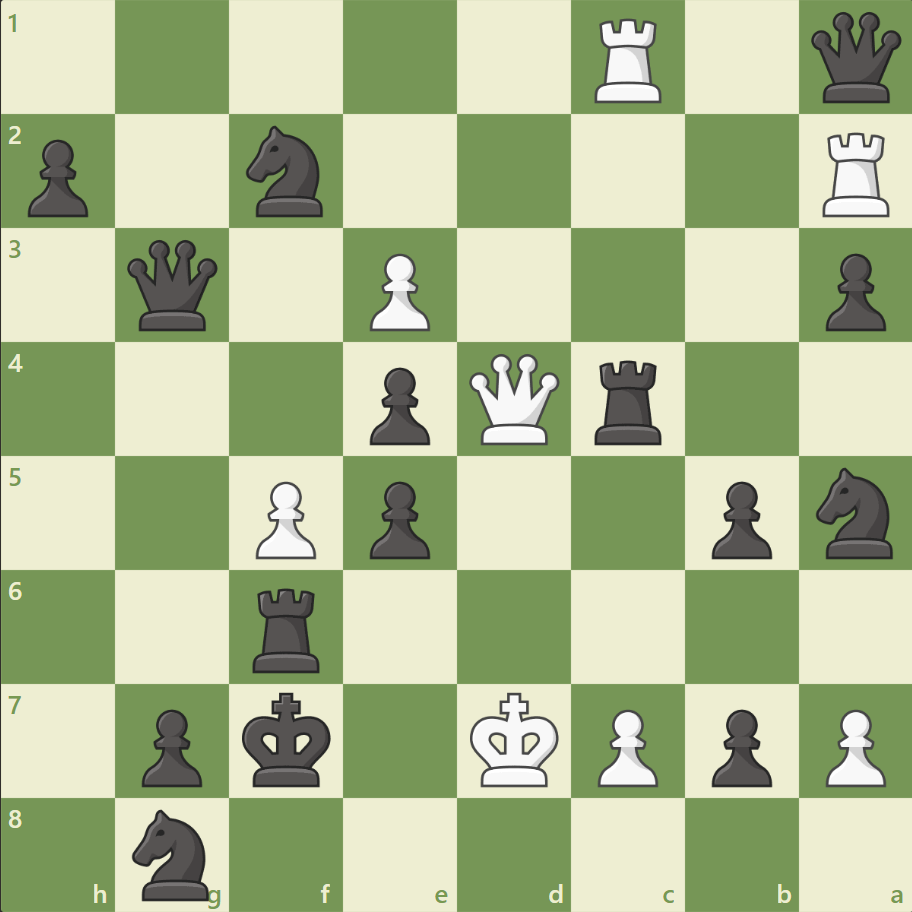K: (465, 685, 565, 793)
P: (247, 473, 322, 564), (815, 700, 889, 791), (588, 700, 662, 791), (361, 246, 435, 337)
Q: (464, 349, 563, 449)
R: (814, 125, 897, 222), (587, 12, 670, 109)
k: (238, 685, 338, 793)
n: (124, 802, 222, 904), (806, 461, 903, 564), (238, 121, 335, 223)
p: (701, 700, 776, 791), (133, 700, 208, 791), (701, 473, 776, 564), (20, 132, 95, 223), (361, 473, 435, 564), (361, 359, 435, 450), (815, 246, 889, 337)
q: (124, 236, 223, 335), (805, 9, 904, 108)
r: (246, 579, 329, 676), (587, 352, 670, 449)
